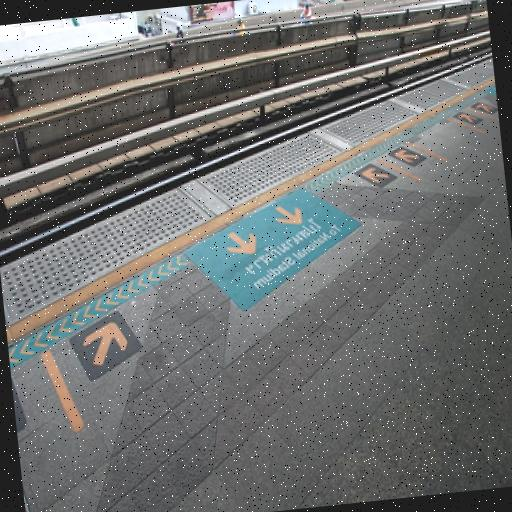platform_edge: (0, 25, 512, 390)
